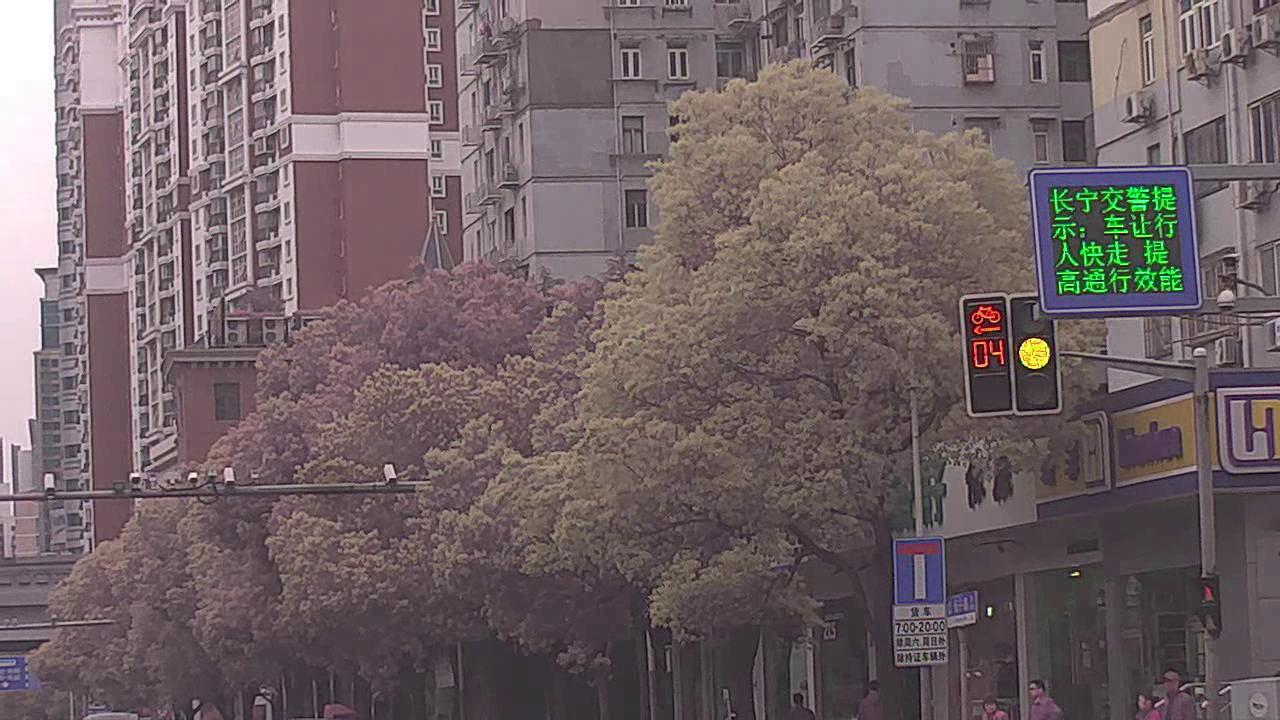traffic_light: (961, 299, 1013, 417), (1015, 298, 1067, 410)
